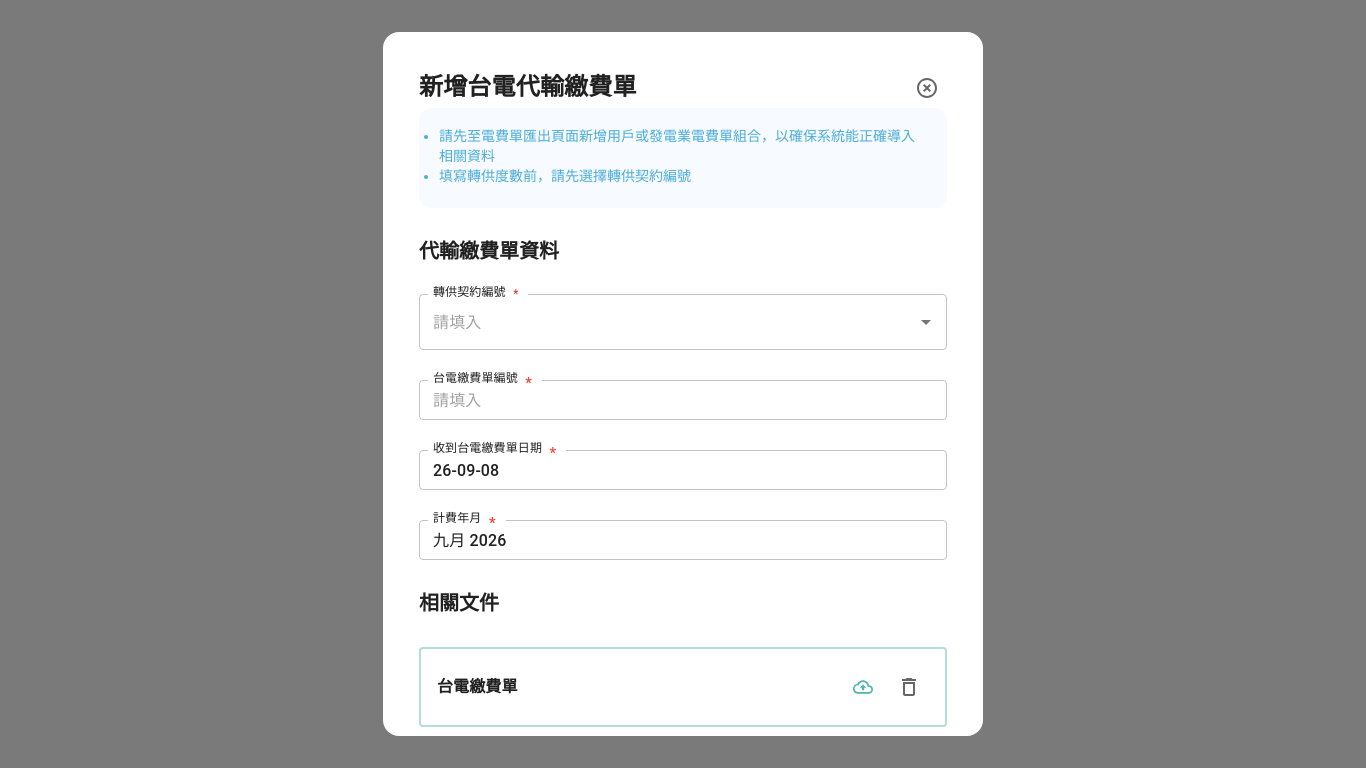
TPCBillDialog › 動態表單欄位測試 › 選擇轉供文件後應該載入相關資料
Check: the heading "新增台電代輸繳費單" is shown, box 419,73 -> 637,103
找到轉供契約編號的 autocomplete 並展開選項
Press the mouse on the dropdown at (668, 322), box 428,303 -> 908,341
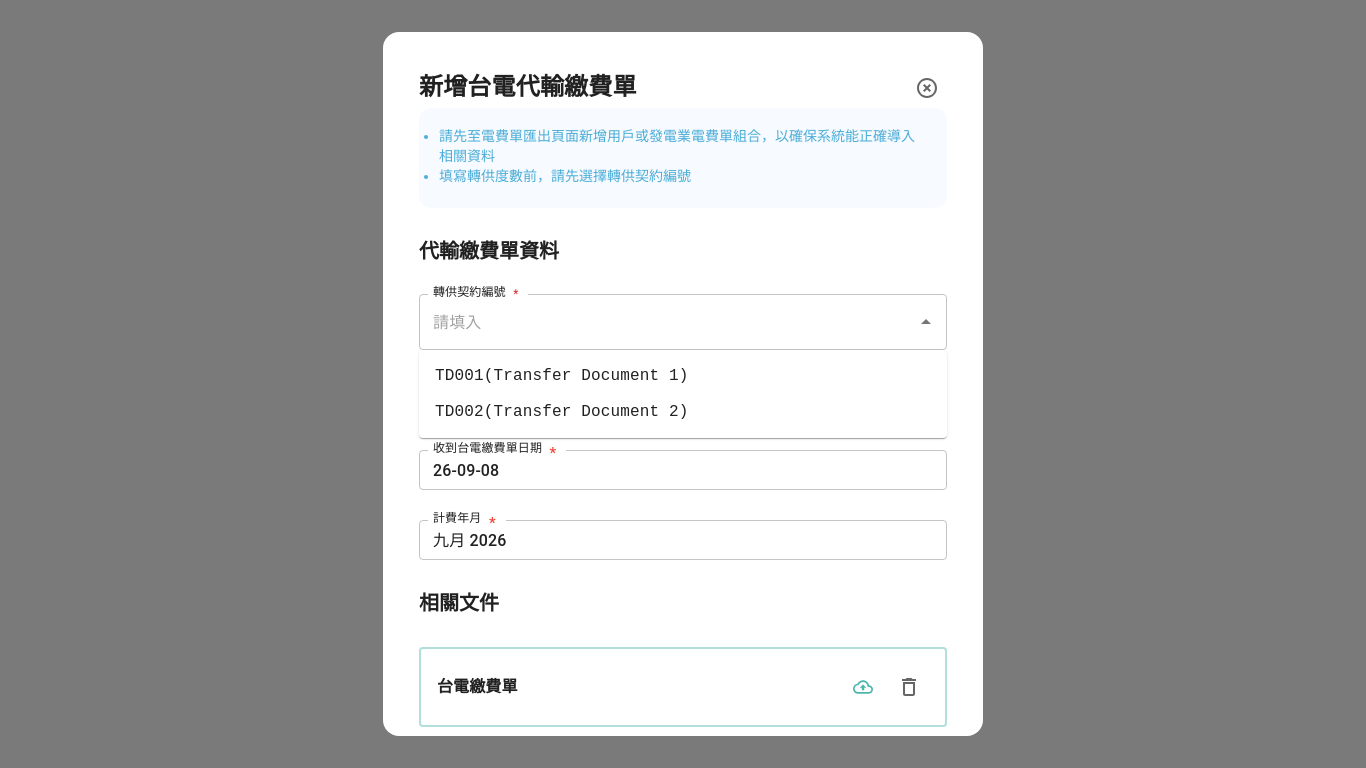
Check: the option "TD001(Transfer Document 1)" is shown
選擇第一個轉供文件
Click the option "TD001(Transfer Document 1)" at (562, 376), box 435,367 -> 688,385
(page scrolled)
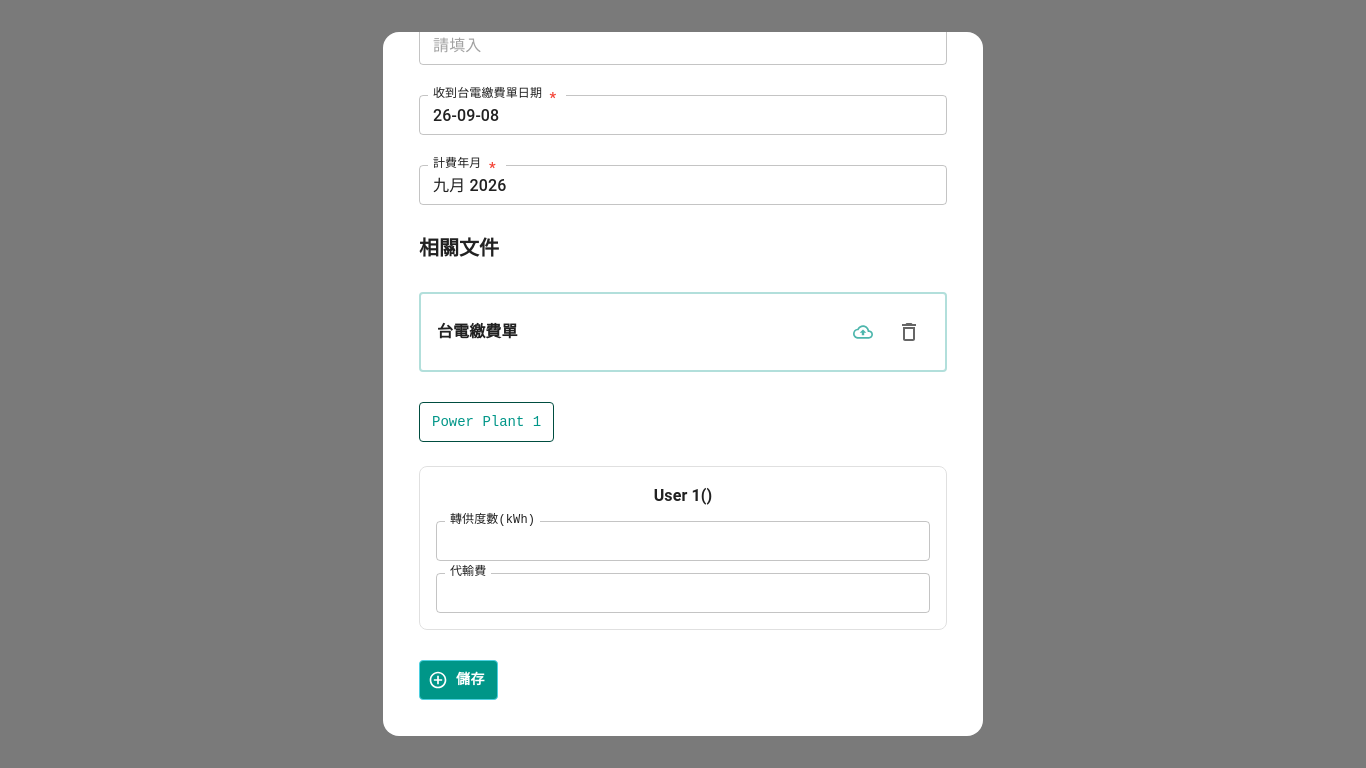
Check: the text "Power Plant 1" is shown, box 432,414 -> 541,430
